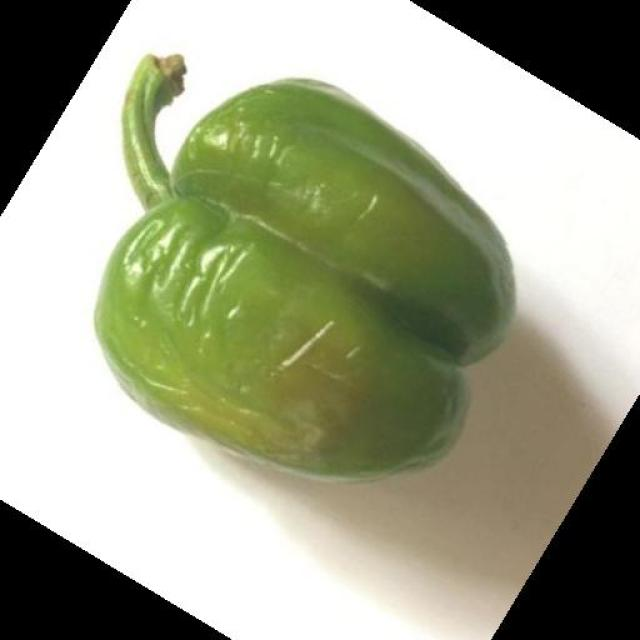Stale_Capsicum: (66, 104, 538, 477)
